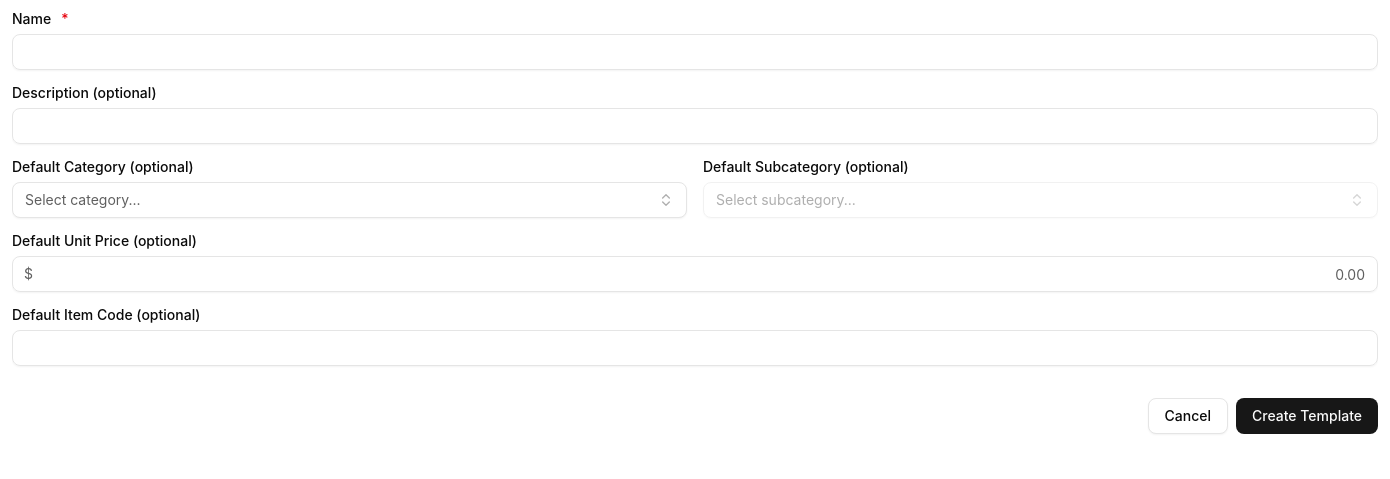
ItemTemplateForm › shows validation error when name is empty
Click the button "Create Template" at point(1307, 416), box [1236,398,1378,434]
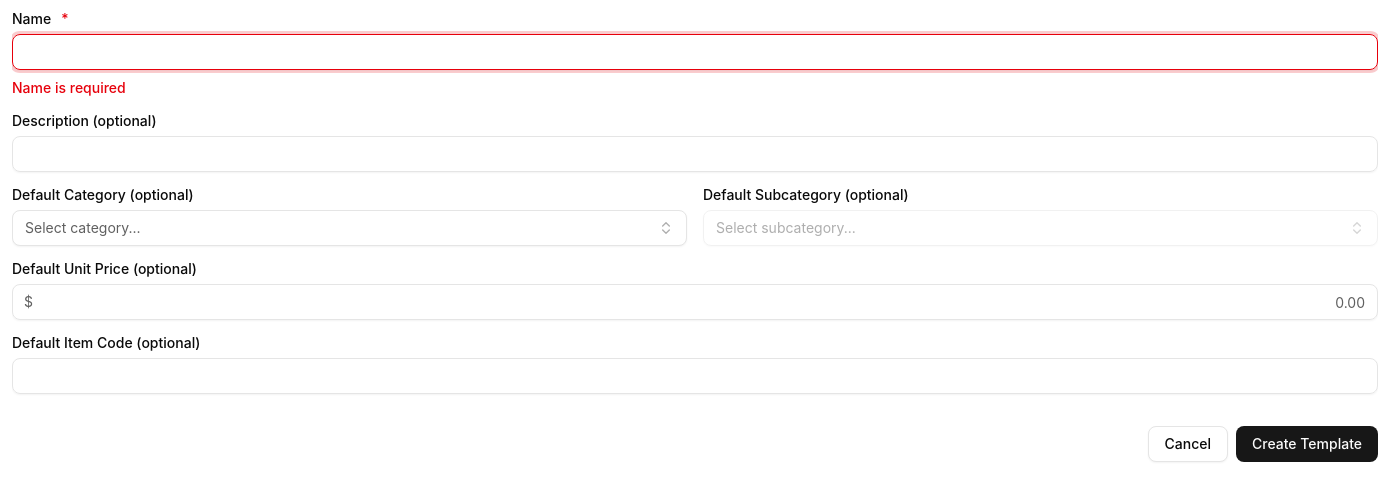
Expected: the text "Name is required" is shown, [12,79,126,96]
